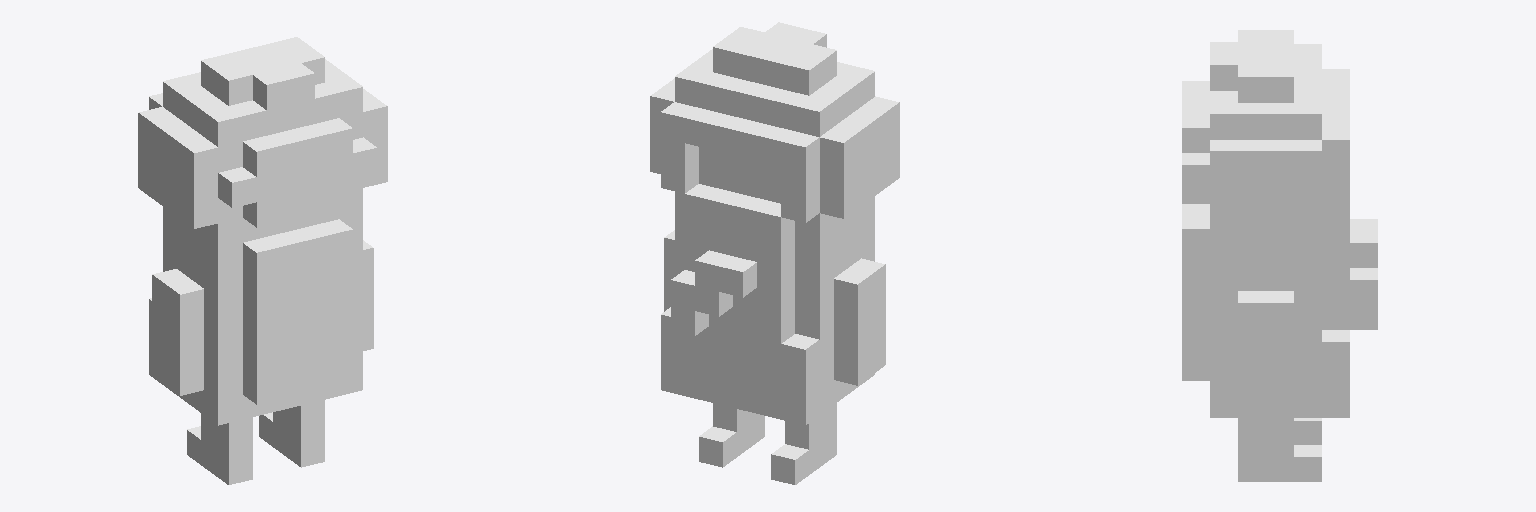
Rendered from out_snowman.obj.
The picture shows the model from 3 angles: view 1: azimuth 30°, elevation 25°; view 2: azimuth 150°, elevation 25°; view 3: azimuth 270°, elevation 25°; orthographic projection.
Visible parts, largest first — view 1: object 1; view 2: object 1; view 3: object 1.
Boxes of the visible parts, <box> form: object 1: <box>138,37,387,484</box>; object 1: <box>650,22,899,484</box>; object 1: <box>1182,30,1377,481</box>.
Bounding box in the file's own units: 0.8 × 1.6 × 0.7.